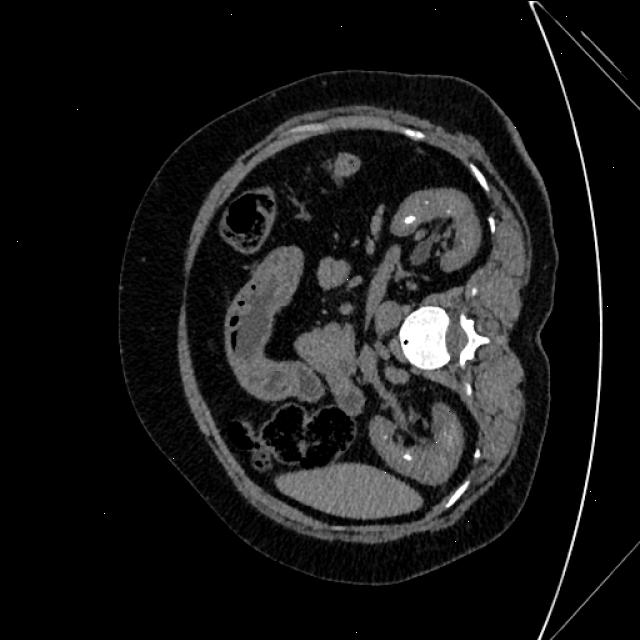kidneystone: (404, 215, 416, 222), (402, 452, 412, 460)
